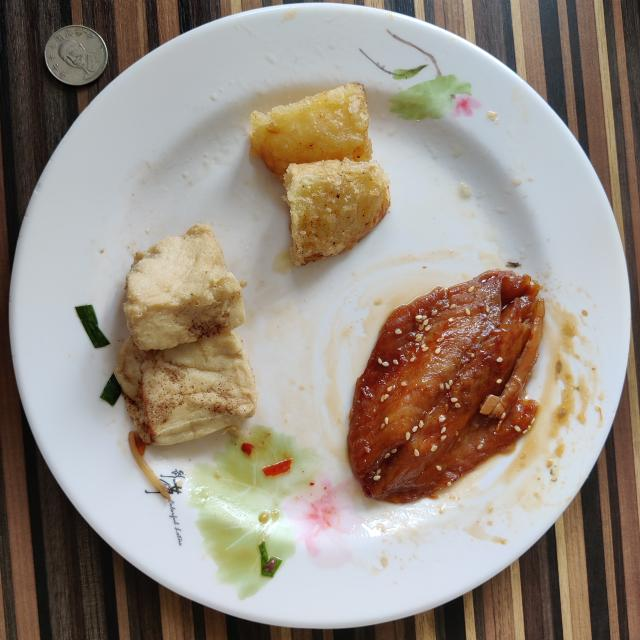Kabayaki sea bream fillet: (348, 269, 545, 502)
coin: (45, 25, 108, 85)
creamy tofu -without sauce-: (114, 224, 258, 445)
fried potato: (250, 82, 390, 265)
